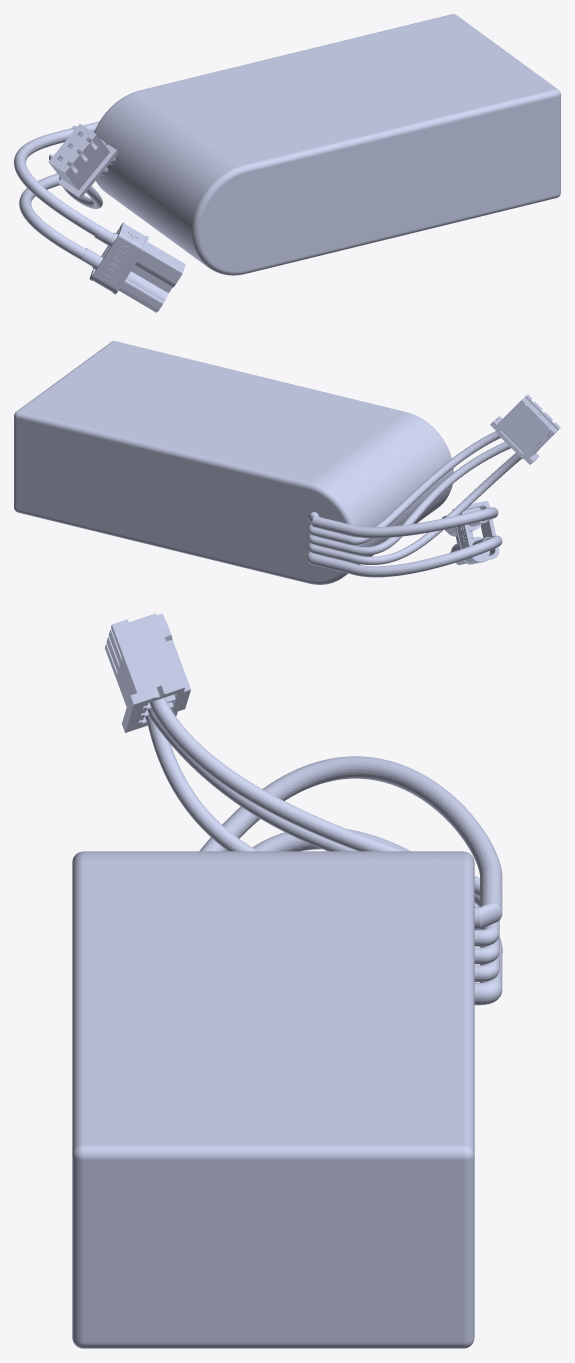
Rendered from battery-4s-3000mah-90c.glb.
3 views of the same model, one above another, from view 1: azimuth 30°, elevation 25°; view 2: azimuth 150°, elevation 25°; view 3: azimuth 270°, elevation 25° (orthographic). The views are drawn at different scales.
Parts seen in each view (by area): view 1: battery-4s-3000mah-90c; view 2: battery-4s-3000mah-90c; view 3: battery-4s-3000mah-90c.
Part boxes in pixels (<box>): battery-4s-3000mah-90c: <box>14,14,560,312</box>; battery-4s-3000mah-90c: <box>14,341,560,584</box>; battery-4s-3000mah-90c: <box>72,613,502,1348</box>.
Size of the model in its own units: 0.0953 by 0.0366 by 0.0385.
